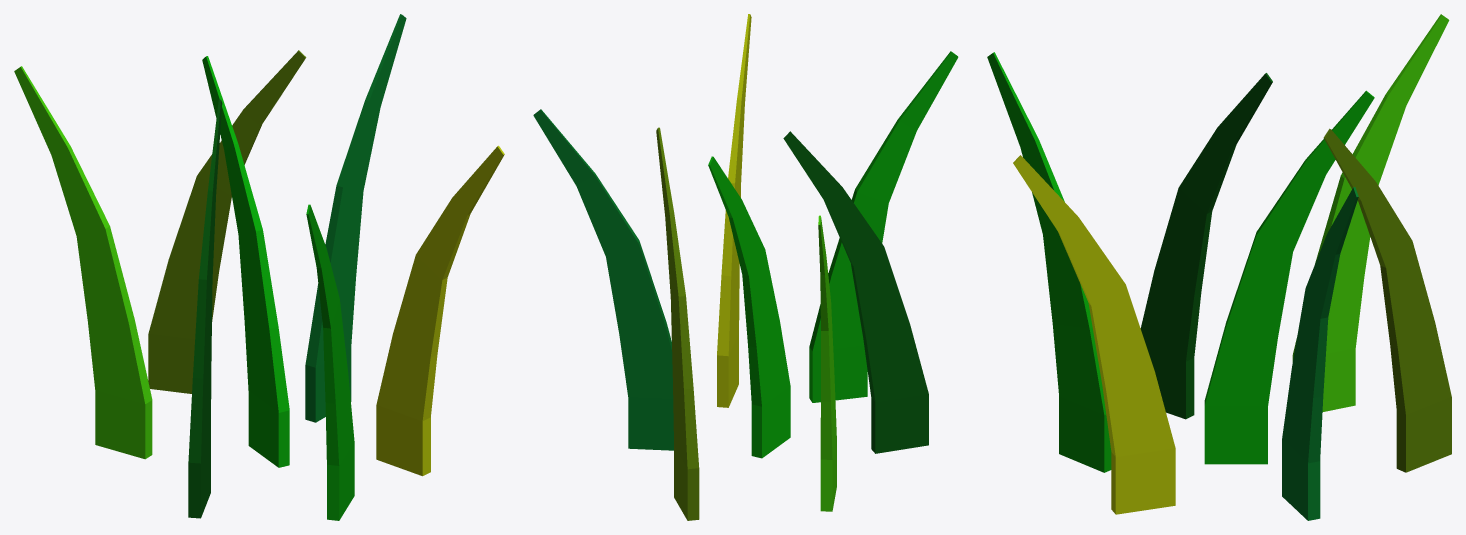
Rendered from Grass.fbx.
3 renders of one model, left to right at view 1: azimuth 30°, elevation 25°; view 2: azimuth 150°, elevation 25°; view 3: azimuth 270°, elevation 25°, orthographic. The views are drawn at different scales.
Visible parts, largest first — view 1: Cube.001; view 2: Cube.001; view 3: Cube.001.
Boxes of the visible parts, box(x1,y1,x2,y2) form: Cube.001: box(14, 14, 504, 520); Cube.001: box(533, 14, 958, 520); Cube.001: box(987, 14, 1451, 520).
Bounding box in the file's own units: 388 × 376 × 428.
Materials: 1 (1 with a texture image).
